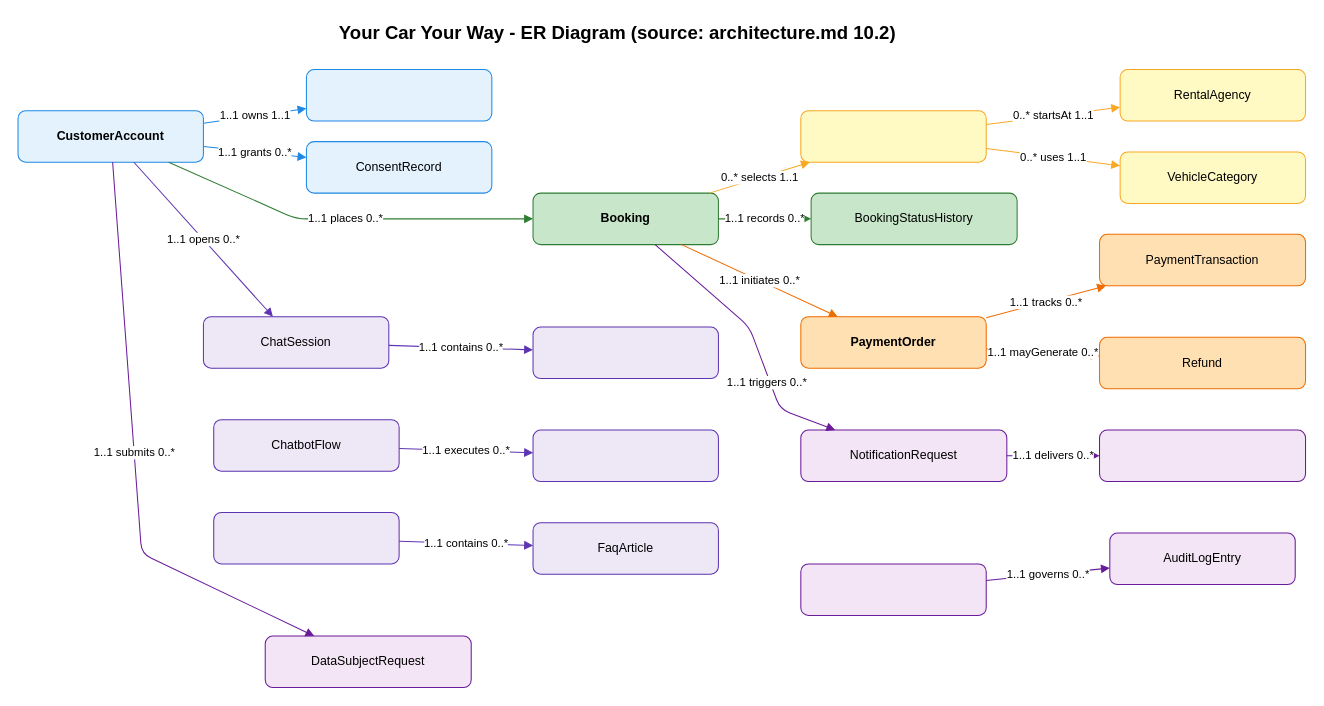
Some shapes in this 1324 by 706 pixel diagram are drawn without their labels. Here are the shapes that lost their labels. From the top down, the centre of each, then its label:
(398,94): CustomerProfile
(893,136): OfferProjection
(625,352): ChatMessage
(625,455): DialogTurn
(1202,455): NotificationDelivery
(306,537): FaqCategory
(893,589): RetentionRule
